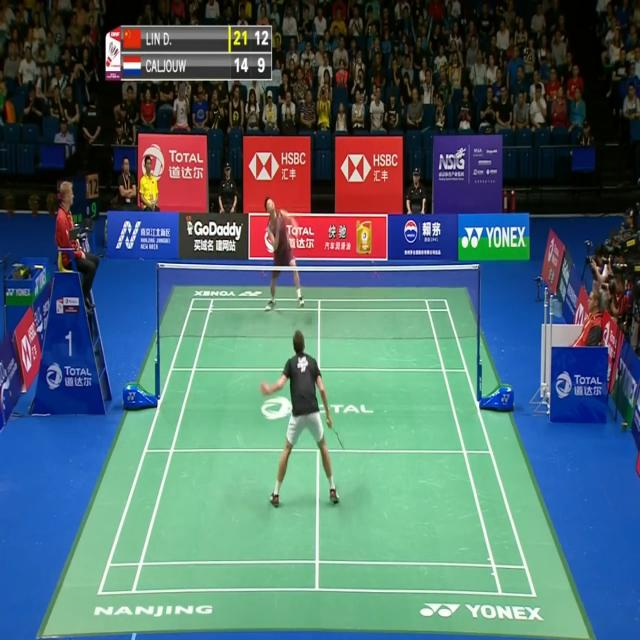Player1: (260, 328, 346, 511)
Player2: (266, 191, 304, 313)
